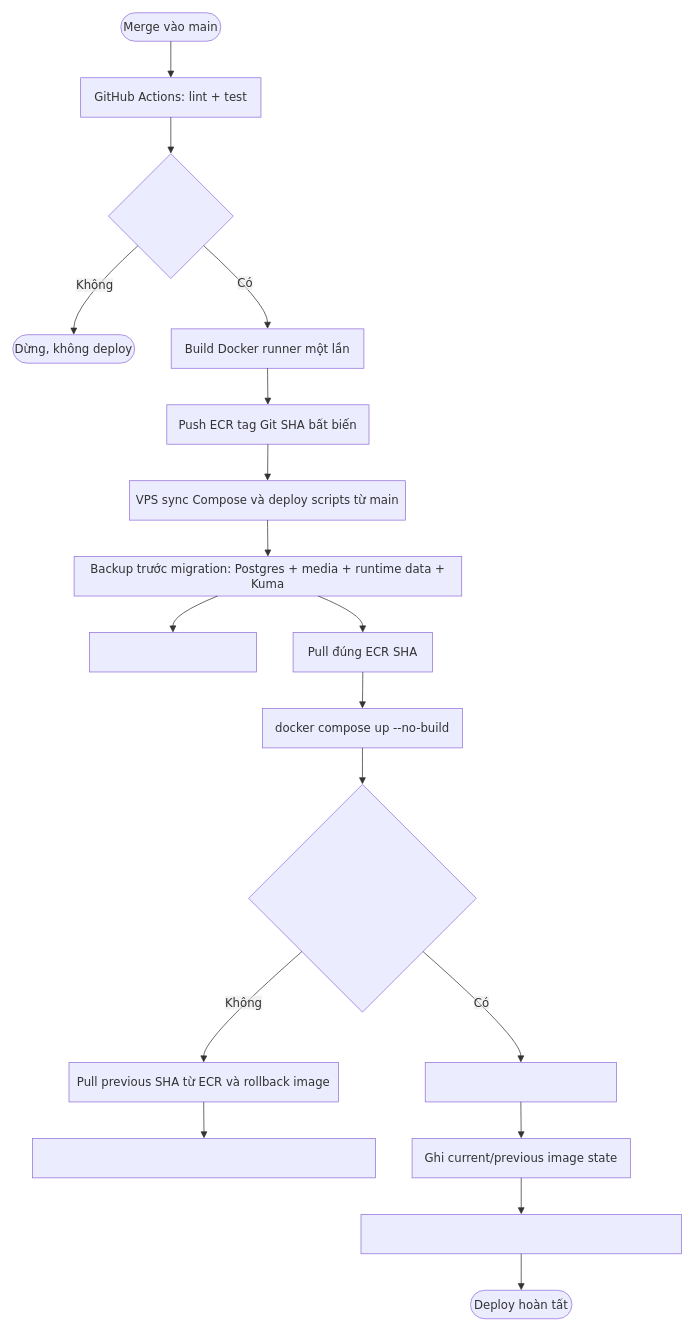
Some shapes in this 694 by 1332 pixel diagram are drawn without their labels. The shapes that lost their labels are listed below. From the top down, each one's centre as x and y in pixels, then its label:
At [170,215]: "Kiểm tra đạt?".
At [173,652]: "Upload S3 nếu cấu hình".
At [362,898]: "Healthcheck + repair đạt?".
At [520,1082]: "Promote ECR tag production".
At [204,1158]: "Giữ pre-deploy backup để full rollback thủ công nếu cần".
At [520,1234]: "Xóa previous image local và prune image không dùng".
